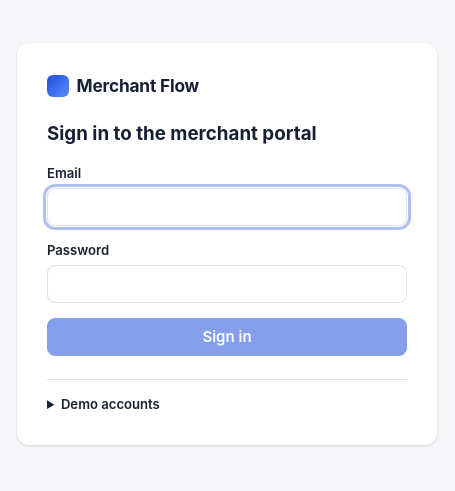
Test: sign-in › shows the API message for bad credentials
The image size is (455, 491).
Type "merchant@merchant-flow.test" into the field labelled "Email" at (227,207), box [47,188,407,226]
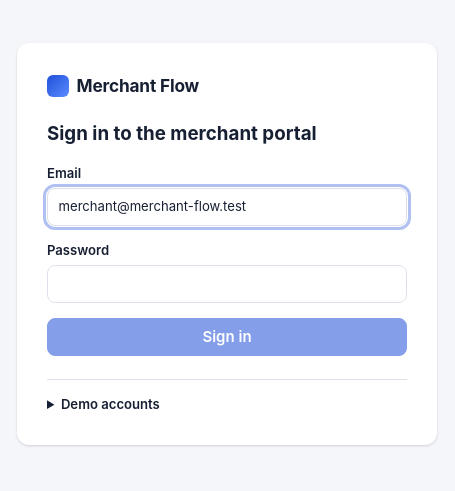
Type "wrong" into the password field labelled "Password" at (227,284), box [47,265,407,303]
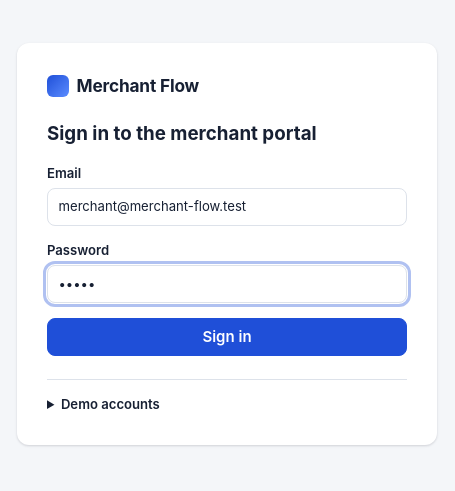
Click the button "Sign in" at (227,337), box [47,318,407,356]
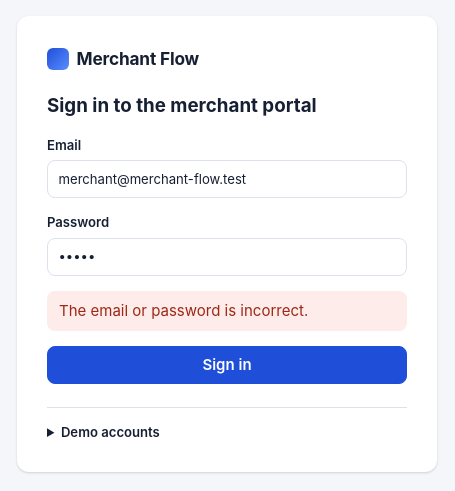
Expected: the message reads "The email or password is incorrect.", [59,301,308,320]
